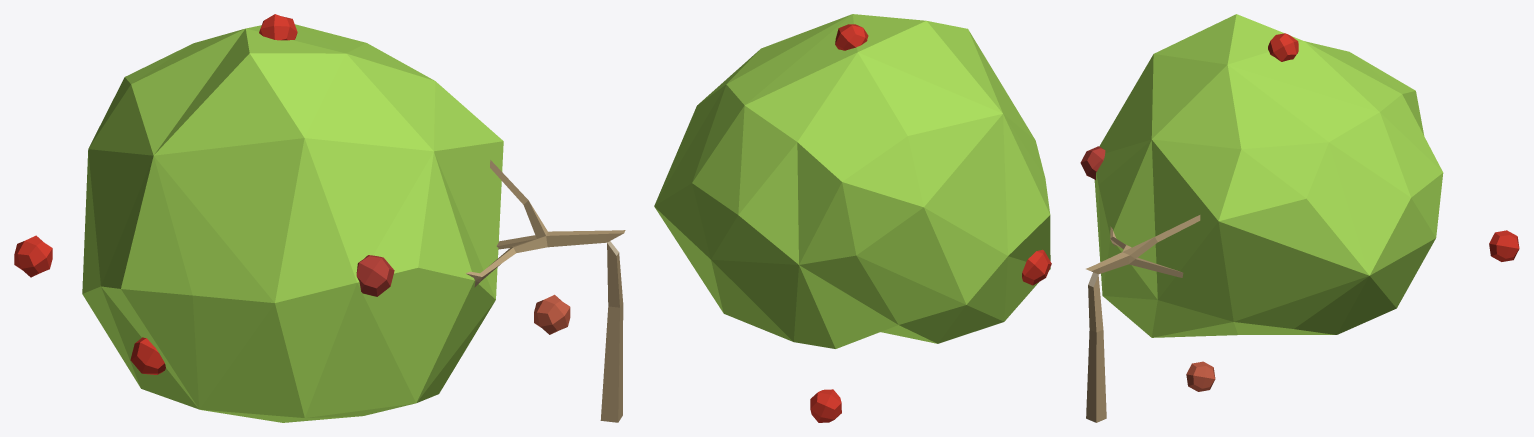
Rendered from Apple_Tree_Apples_crk_s_01_LOD.fbx.
3 renders of one model, left to right at view 1: azimuth 30°, elevation 25°; view 2: azimuth 150°, elevation 25°; view 3: azimuth 270°, elevation 25°, orthographic. The views are drawn at different scales.
Visible parts, largest first — view 1: Apple_Tree_Apples_crk_s_01_LOD0; view 2: Apple_Tree_Apples_crk_s_01_LOD0; view 3: Apple_Tree_Apples_crk_s_01_LOD0.
Boxes of the visible parts, x1,y1,x2,y2 form: Apple_Tree_Apples_crk_s_01_LOD0: [14, 14, 625, 422]; Apple_Tree_Apples_crk_s_01_LOD0: [654, 14, 1051, 422]; Apple_Tree_Apples_crk_s_01_LOD0: [1080, 14, 1519, 422].
Size of what is drawn, in the model's own units: 233 by 192 by 255.
